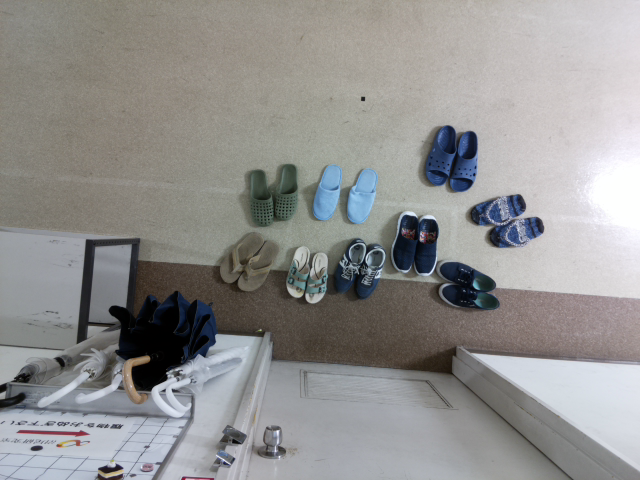Copy of Copy of Copy of Copy of Copy of Copy of Copy of Copy of Copy of Copy of: (444, 127, 483, 197), (341, 162, 380, 228), (388, 206, 421, 276), (308, 160, 344, 224), (409, 212, 442, 279), (301, 246, 331, 311), (282, 240, 311, 304)
Copy of Copy of Copy of Copy of Copy of Copy of Copy of Copy of Copy of shoe: (421, 120, 458, 190)
Copy of Copy of Copy of Copy of Copy of Copy of Copy of Copy of shoe: (330, 232, 367, 299)
Copy of Copy of Copy of Copy of Copy of Copy of Copy of shoe: (350, 239, 389, 307)
Copy of Copy of Copy of Copy of Copy of Copy of shoe: (270, 160, 302, 226)
Copy of Copy of Copy of Copy of Copy of shoe: (463, 191, 532, 231)
Copy of Copy of Copy of Copy of Copy of umbrella: (1, 331, 94, 413)
Copy of Copy of Copy of Copy of shoe: (482, 213, 549, 249)
Copy of Copy of Copy of Copy of umbrella: (29, 333, 132, 410)
Copy of Copy of Copy of shoe: (436, 279, 503, 312)
Copy of Copy of Copy of umbrella: (70, 339, 172, 408)
Copy of Copy of shoe: (430, 257, 504, 294)
Copy of Copy of umbrella: (117, 293, 228, 406)
Copy of shoe: (233, 235, 281, 299), (240, 162, 273, 229)
Copy of umbrella: (149, 339, 252, 419)
shoe: (214, 227, 266, 295), (242, 164, 275, 231)
umbrella: (164, 352, 257, 414)
